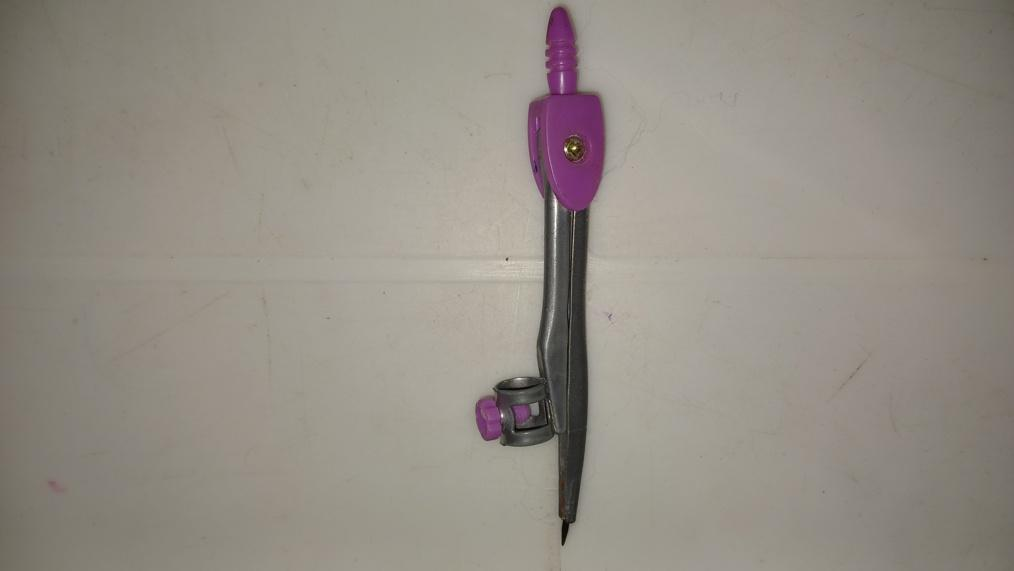Compass: (474, 11, 610, 545)
